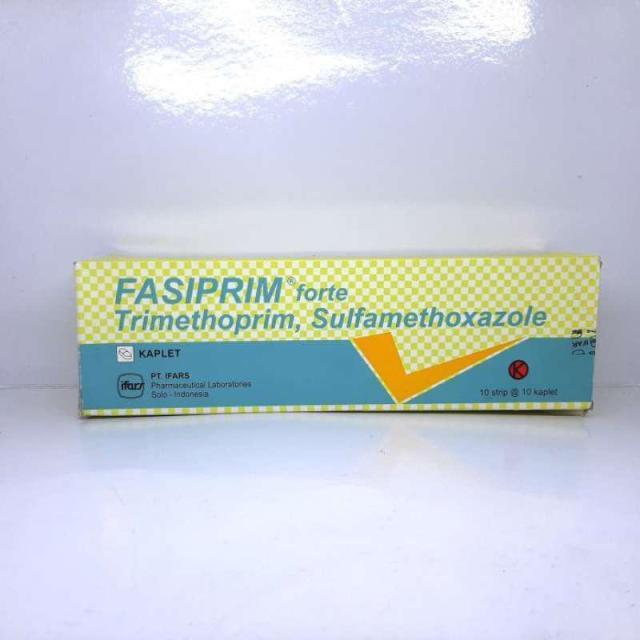drug-name: (114, 274, 349, 304)
